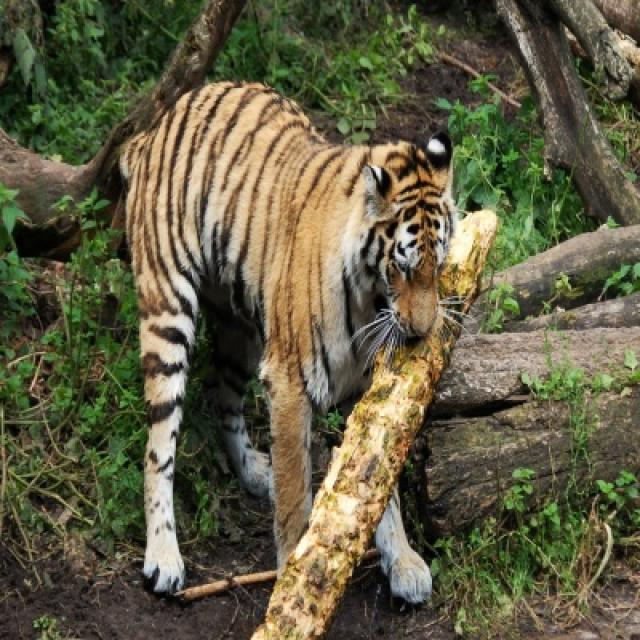Tiger: (132, 82, 451, 593)
